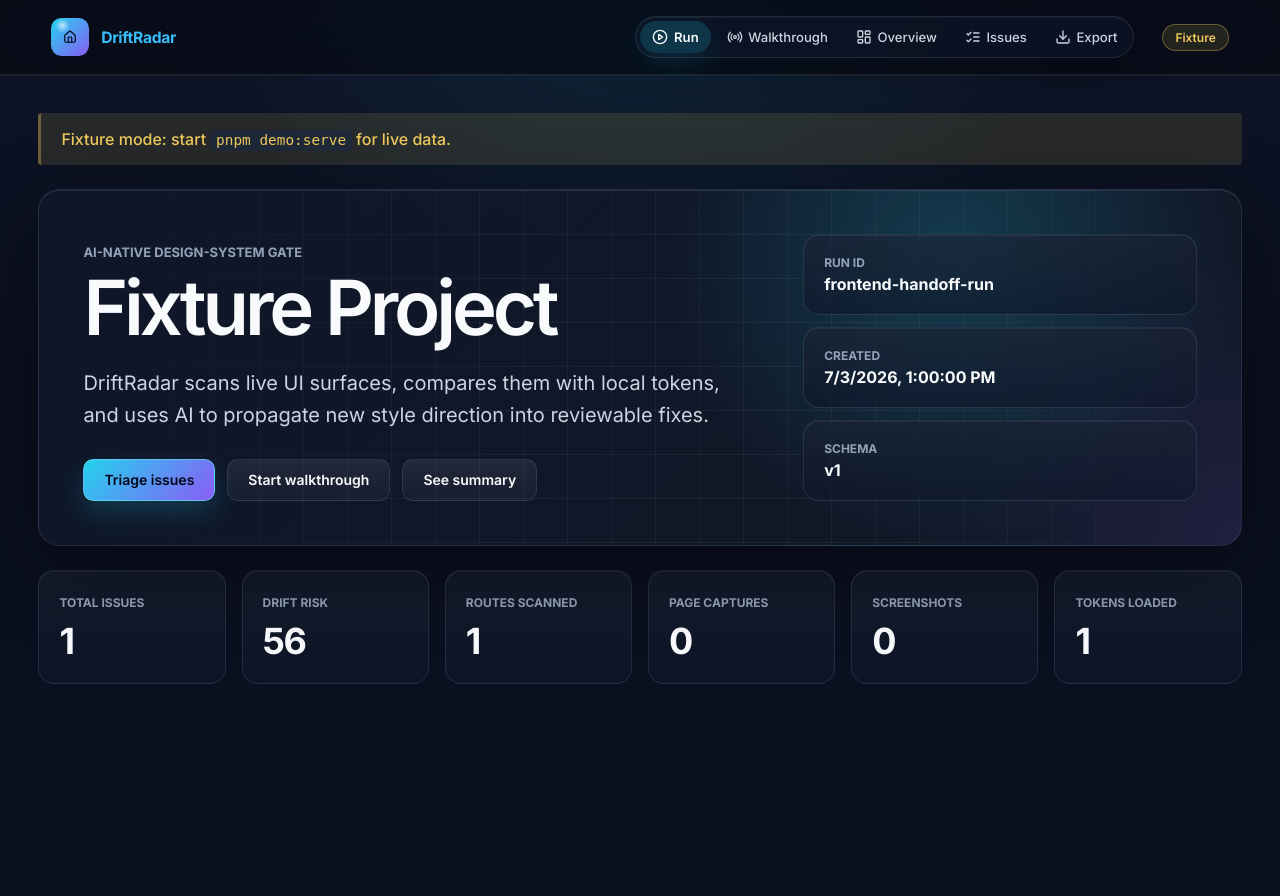
Test: App › keeps fixture mode while navigating from run to walkthrough
Expected: the heading "Fixture Project" is shown, [83,261,555,353]
Click the link "Walkthrough". click: x=777, y=37
box: [727,29,828,45]
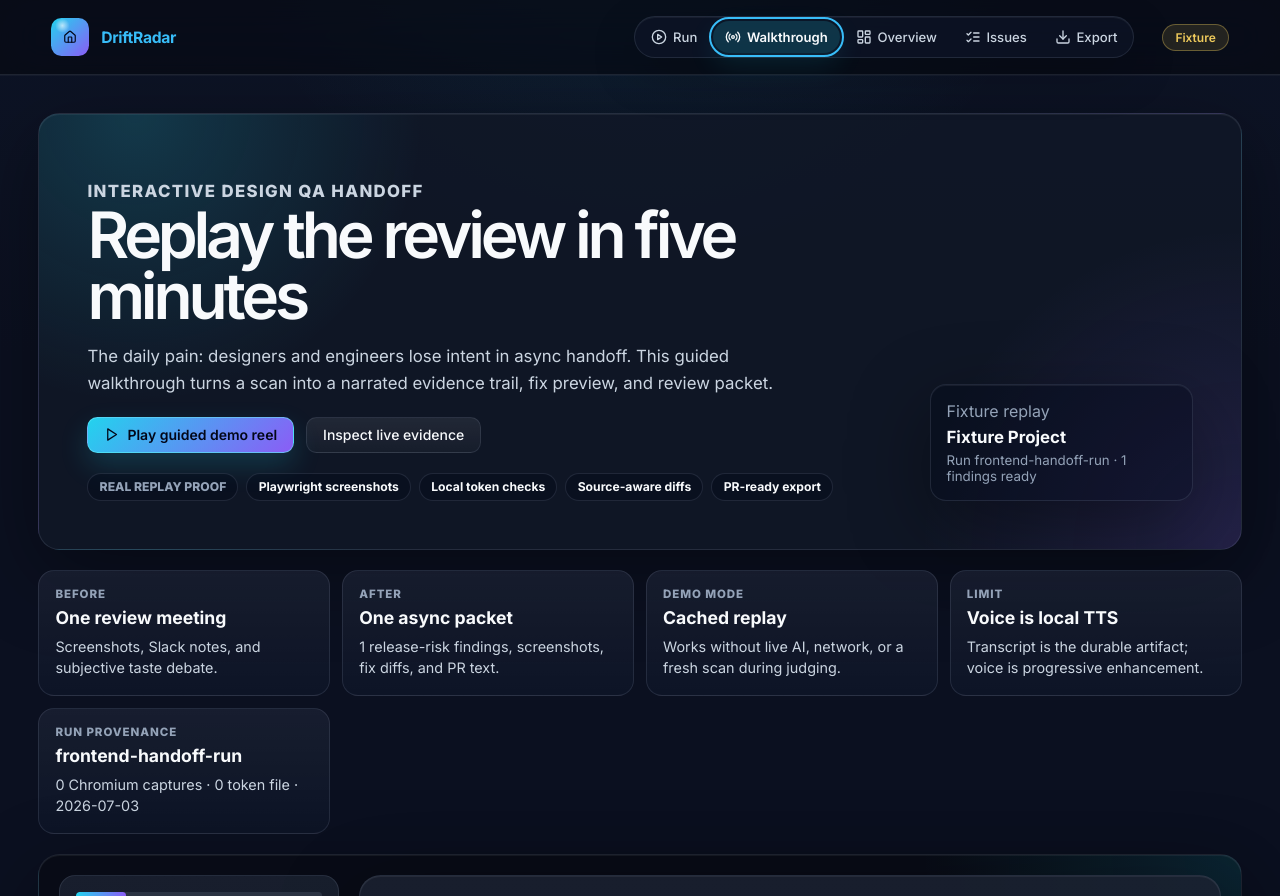
Expected: the heading "Replay the review in five minutes" is shown, [87,205,847,327]
